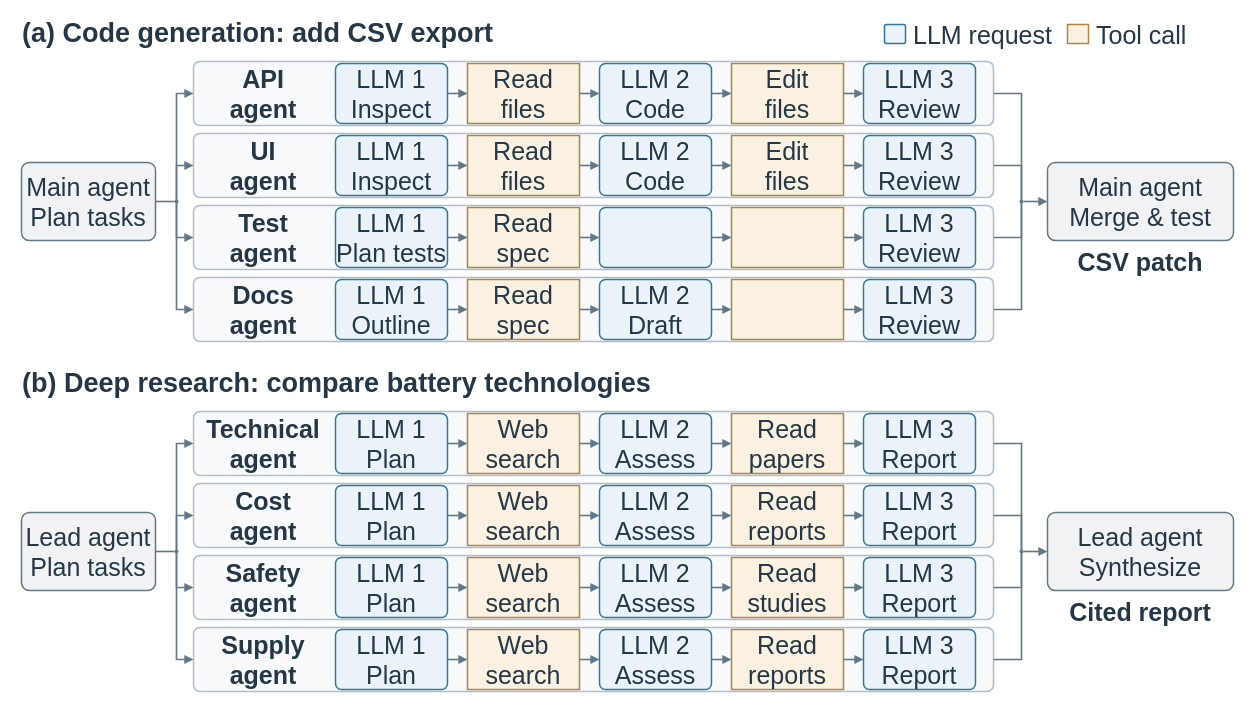
Some shapes in this 1254 by 714 pixel diagram are drawn without their labels. The box of each missing label's shape, as (x1, y1, x2, y2) in pixels:
Edit docs: (730, 278, 844, 340)
Edit tests: (730, 206, 844, 268)
LLM 2 Author: (598, 206, 712, 268)
